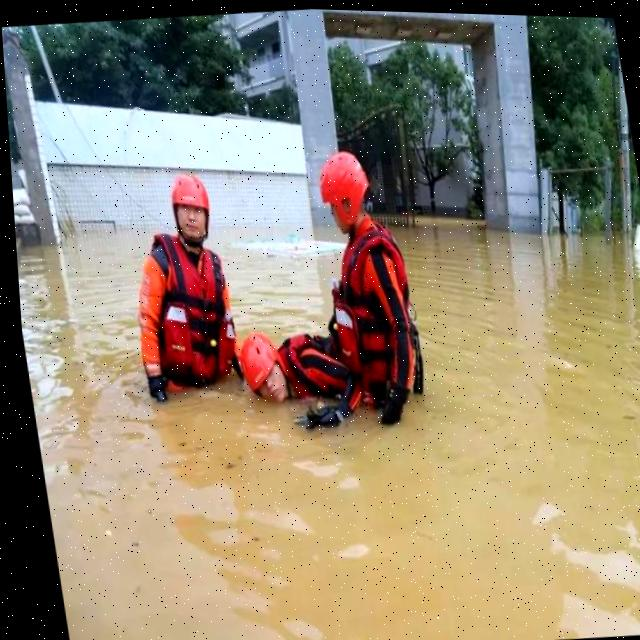rescuer: (301, 144, 440, 440), (108, 160, 255, 415), (228, 316, 375, 444)
